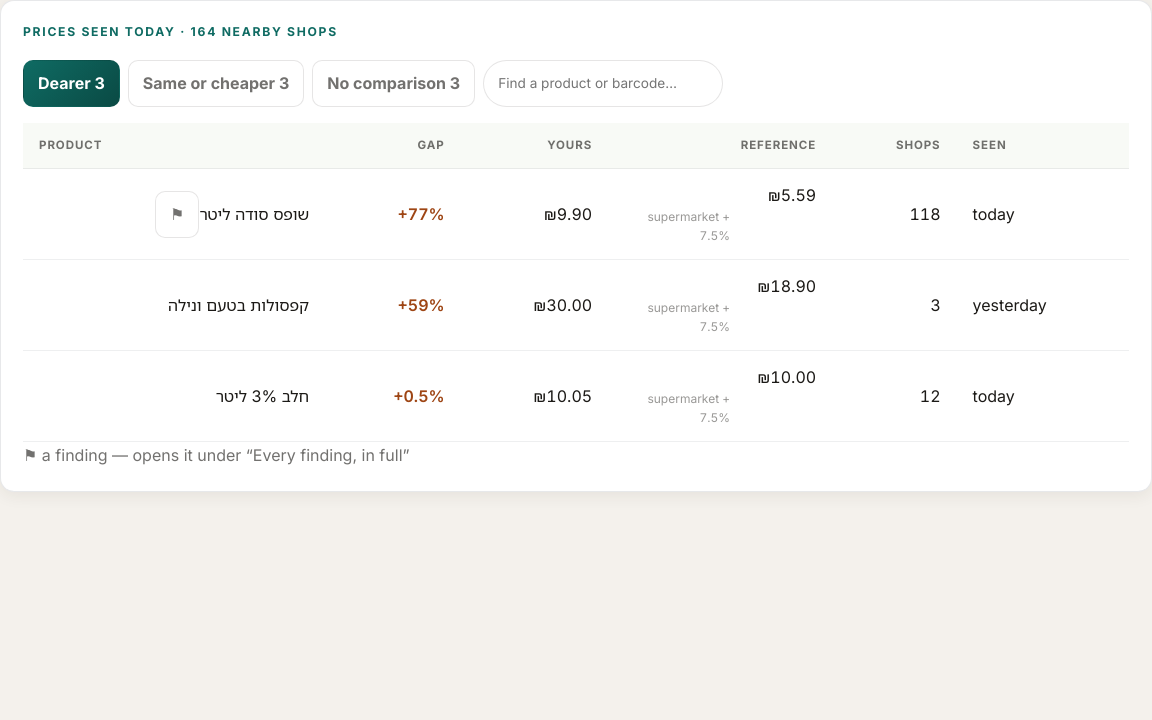
Test: the Prices page, on the published comparison › ranks the same-or-cheaper tab from the cheapest, and warns about pack sizes there only
The width and height of the screenshot is (1152, 720).
Expected: the text "different pack" is not shown
Click the button "Same or cheaper 3".
click(216, 83)  # box [128,60,304,107]
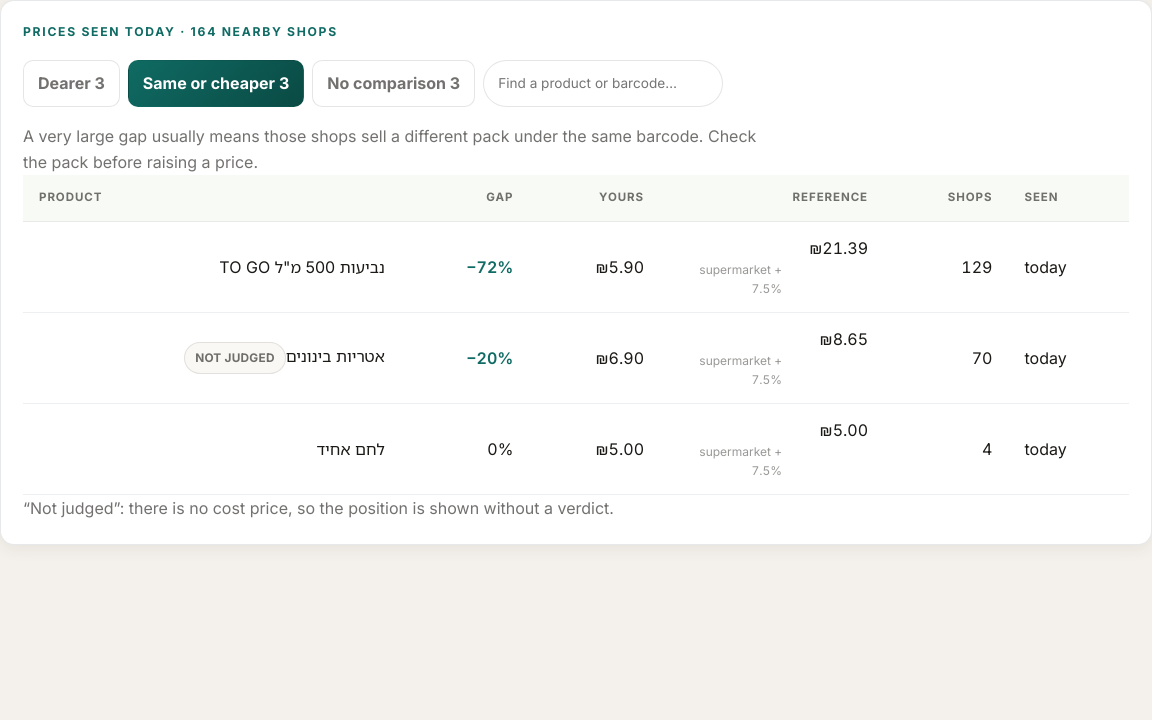
Expected: the text "different pack under the same barcode" is shown, [23,126,756,172]
